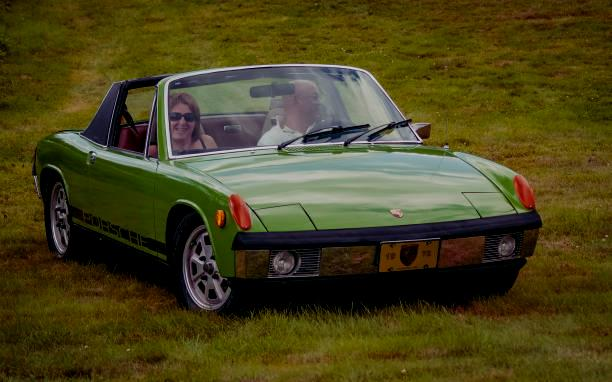porsche: (389, 205, 406, 222)
